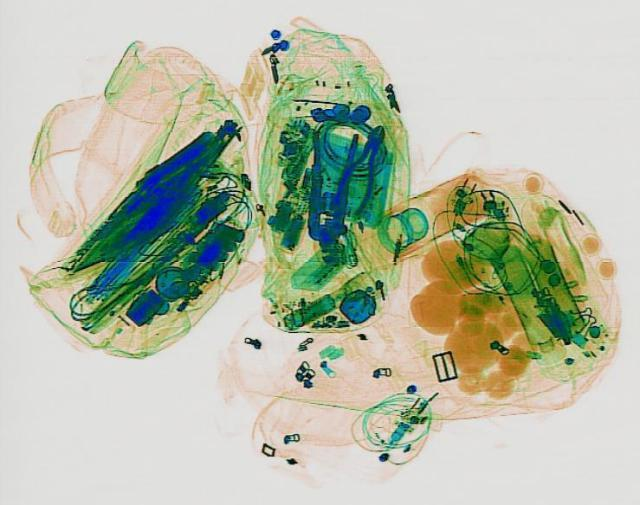Pliers: (298, 127, 358, 242)
